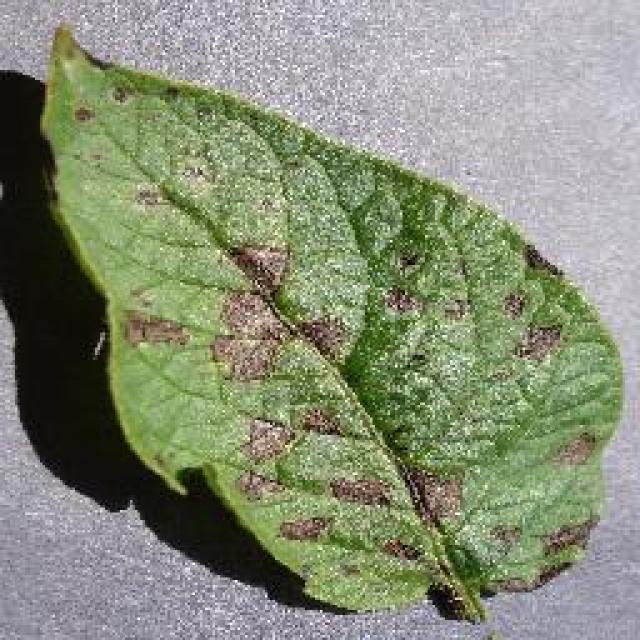early_blight: (32, 20, 628, 625)
